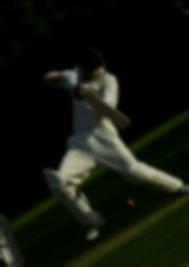batsman: (29, 18, 174, 246)
